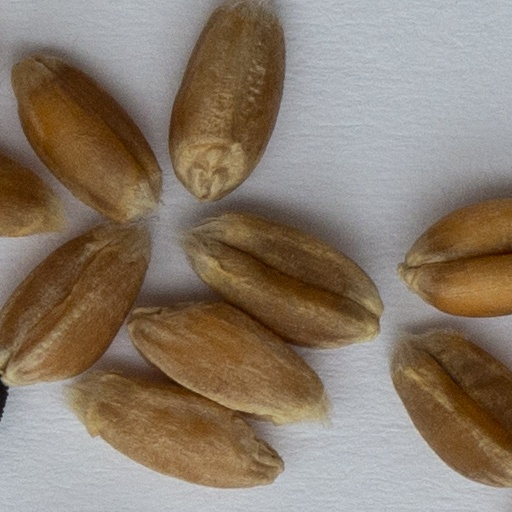Agrostemma-poly: (0, 377, 377, 429)
